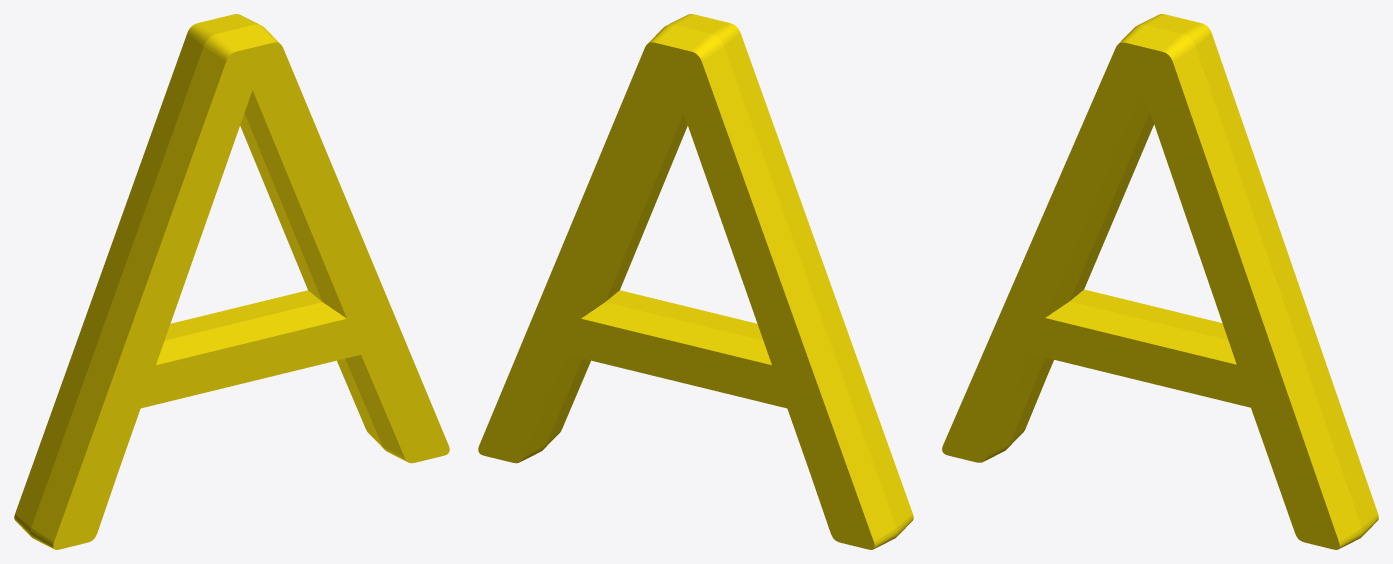
File: A_Color.FBX
3 views of the same model, side by side, from view 1: azimuth 30°, elevation 25°; view 2: azimuth 150°, elevation 25°; view 3: azimuth 330°, elevation 25° (orthographic).
Visible parts, largest first — view 1: A_Color; view 2: A_Color; view 3: A_Color.
Boxes of the visible parts, x1,y1,x2,y2 form: A_Color: (14, 14, 449, 549); A_Color: (478, 14, 913, 549); A_Color: (942, 14, 1378, 549).
Bounding box in the file's own units: 77.84 × 85.15 × 13.
